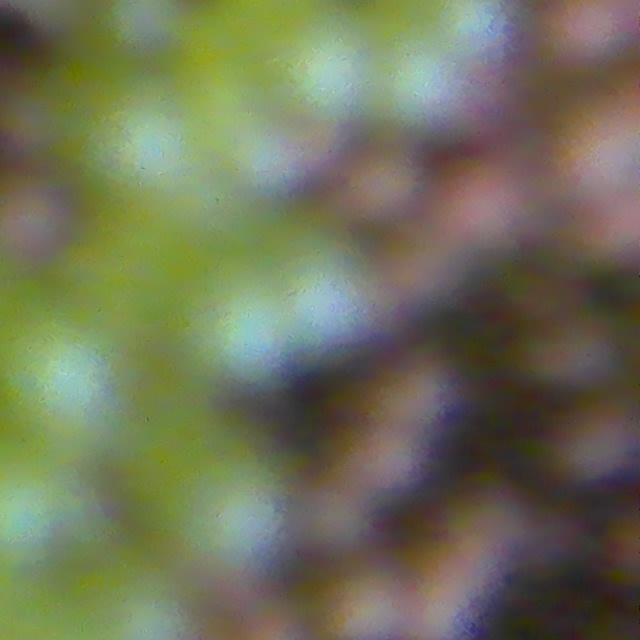SeaGrape: (162, 439, 291, 578), (0, 290, 124, 430), (258, 0, 381, 126), (551, 88, 640, 237), (191, 277, 305, 393), (88, 99, 193, 207), (426, 160, 544, 250), (84, 556, 196, 640), (546, 404, 640, 495), (374, 46, 464, 136), (320, 568, 416, 640), (224, 119, 305, 200), (343, 149, 424, 228), (369, 360, 453, 435), (342, 430, 421, 497), (307, 475, 369, 544)
